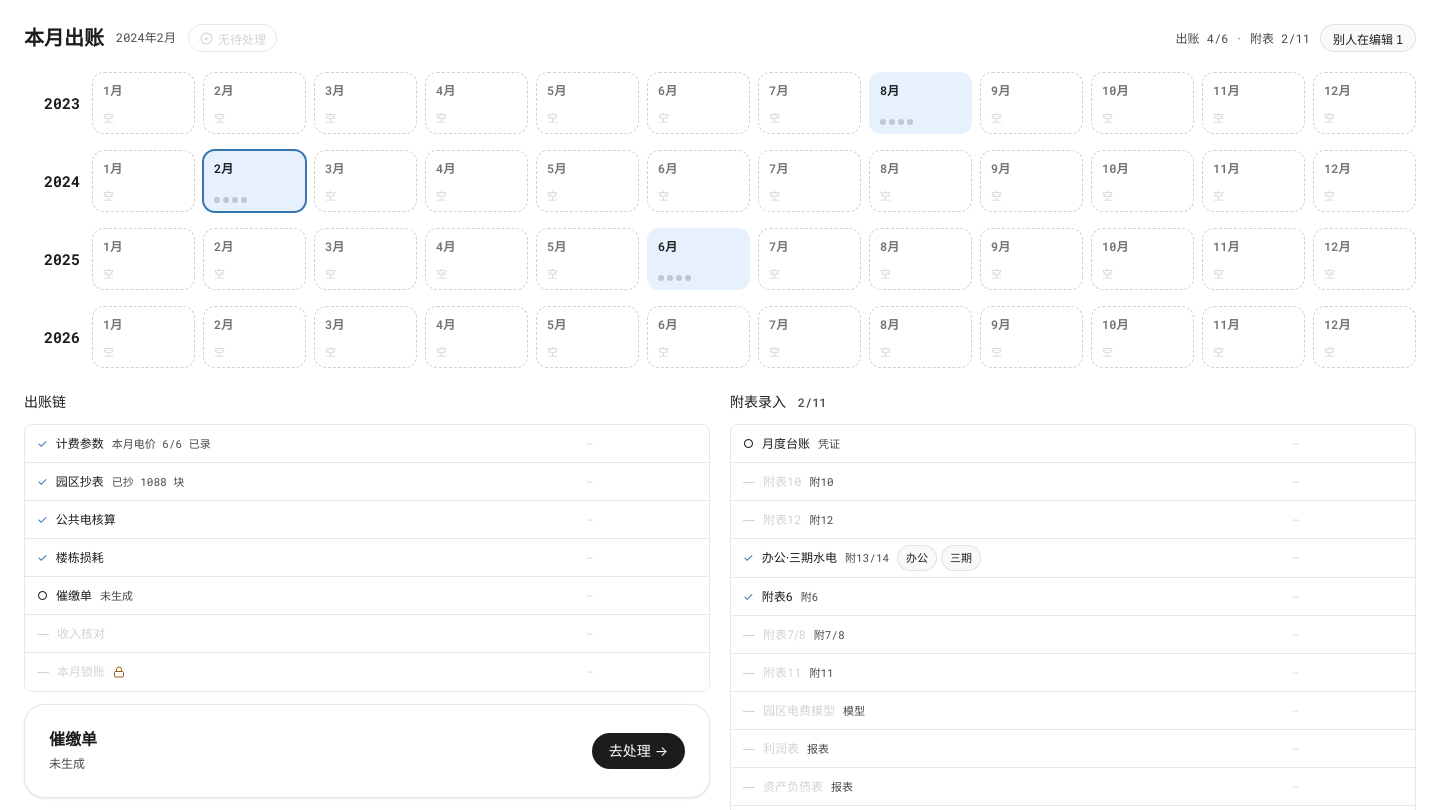
Test: 数据中心首页 · 主管条(P2 T6) › 主管:同一个人开两个标签页只出一枚 chip(按 user 去重,不是按 sid)(fix-brief FC)
Click the button with class "dh-edpill" at point(1368, 38), box 1320,24 -> 1416,52
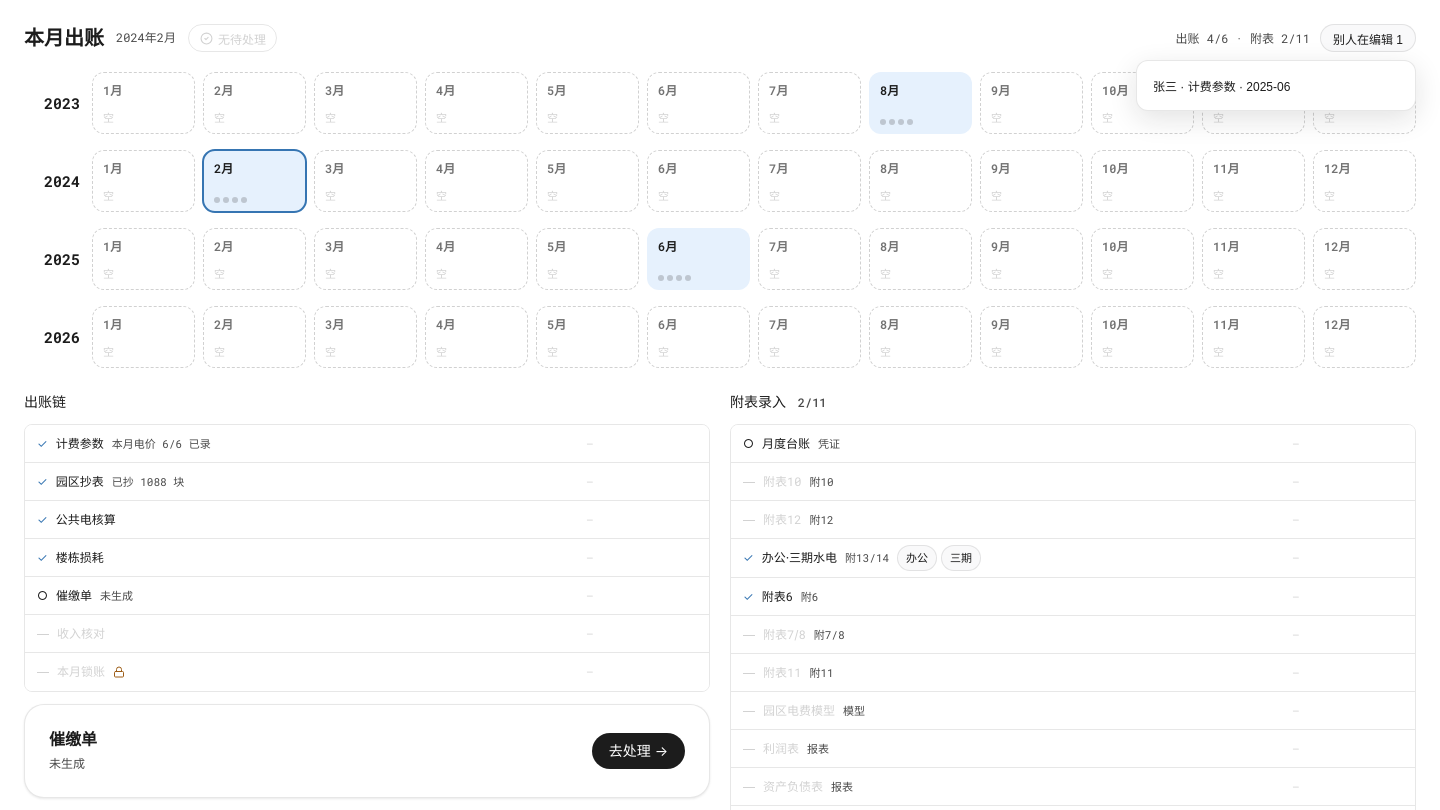
Expected: the number of buttons with class "dh-edrow" is 1, 1145,69 -> 1407,102
